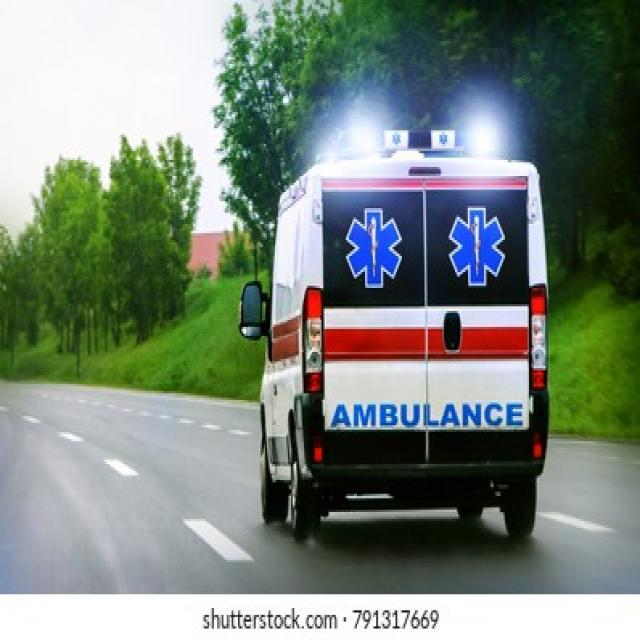emergency-vehicle: (232, 98, 592, 560)
